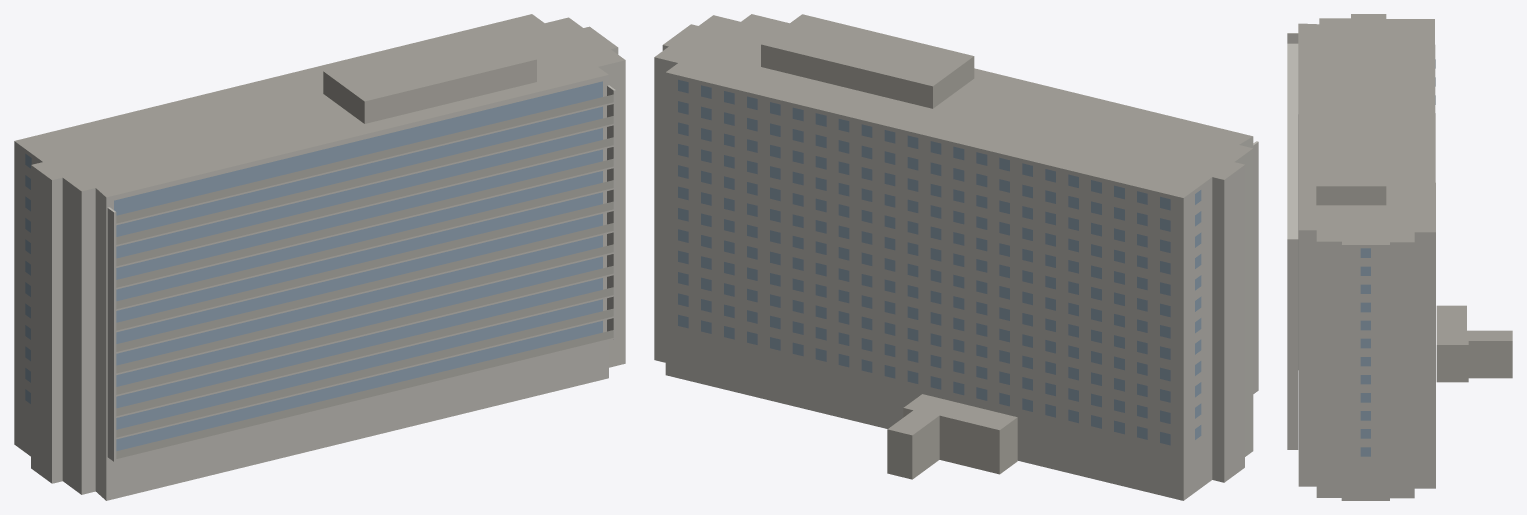
The model's file is quapaw-towers.glb.
3 views of the same model, side by side, from view 1: azimuth 30°, elevation 25°; view 2: azimuth 150°, elevation 25°; view 3: azimuth 270°, elevation 25° (orthographic). The views are drawn at different scales.
Parts seen in each view (by area): view 1: quapaw_towers; view 2: quapaw_towers; view 3: quapaw_towers.
Boxes of the visible parts, <box> form: quapaw_towers: <box>14,14,625,500</box>; quapaw_towers: <box>654,14,1258,500</box>; quapaw_towers: <box>1287,14,1512,500</box>.
Bounding box in the file's own units: 78.15 × 43.4 × 32.24.
